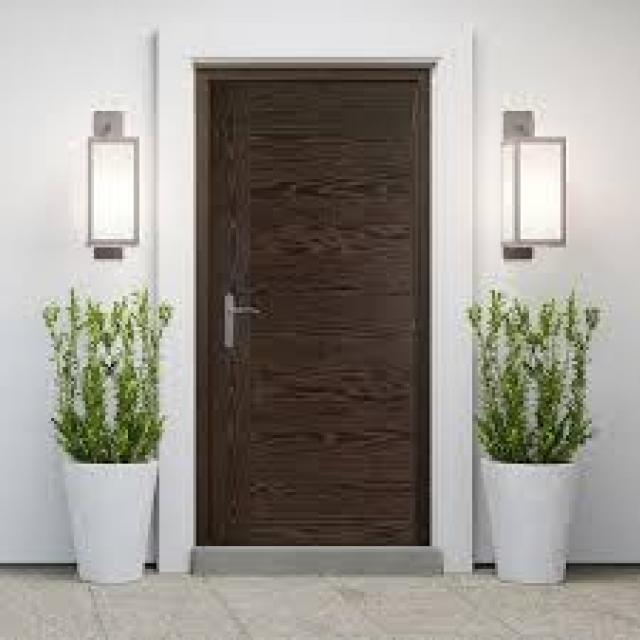door: (198, 65, 434, 549)
